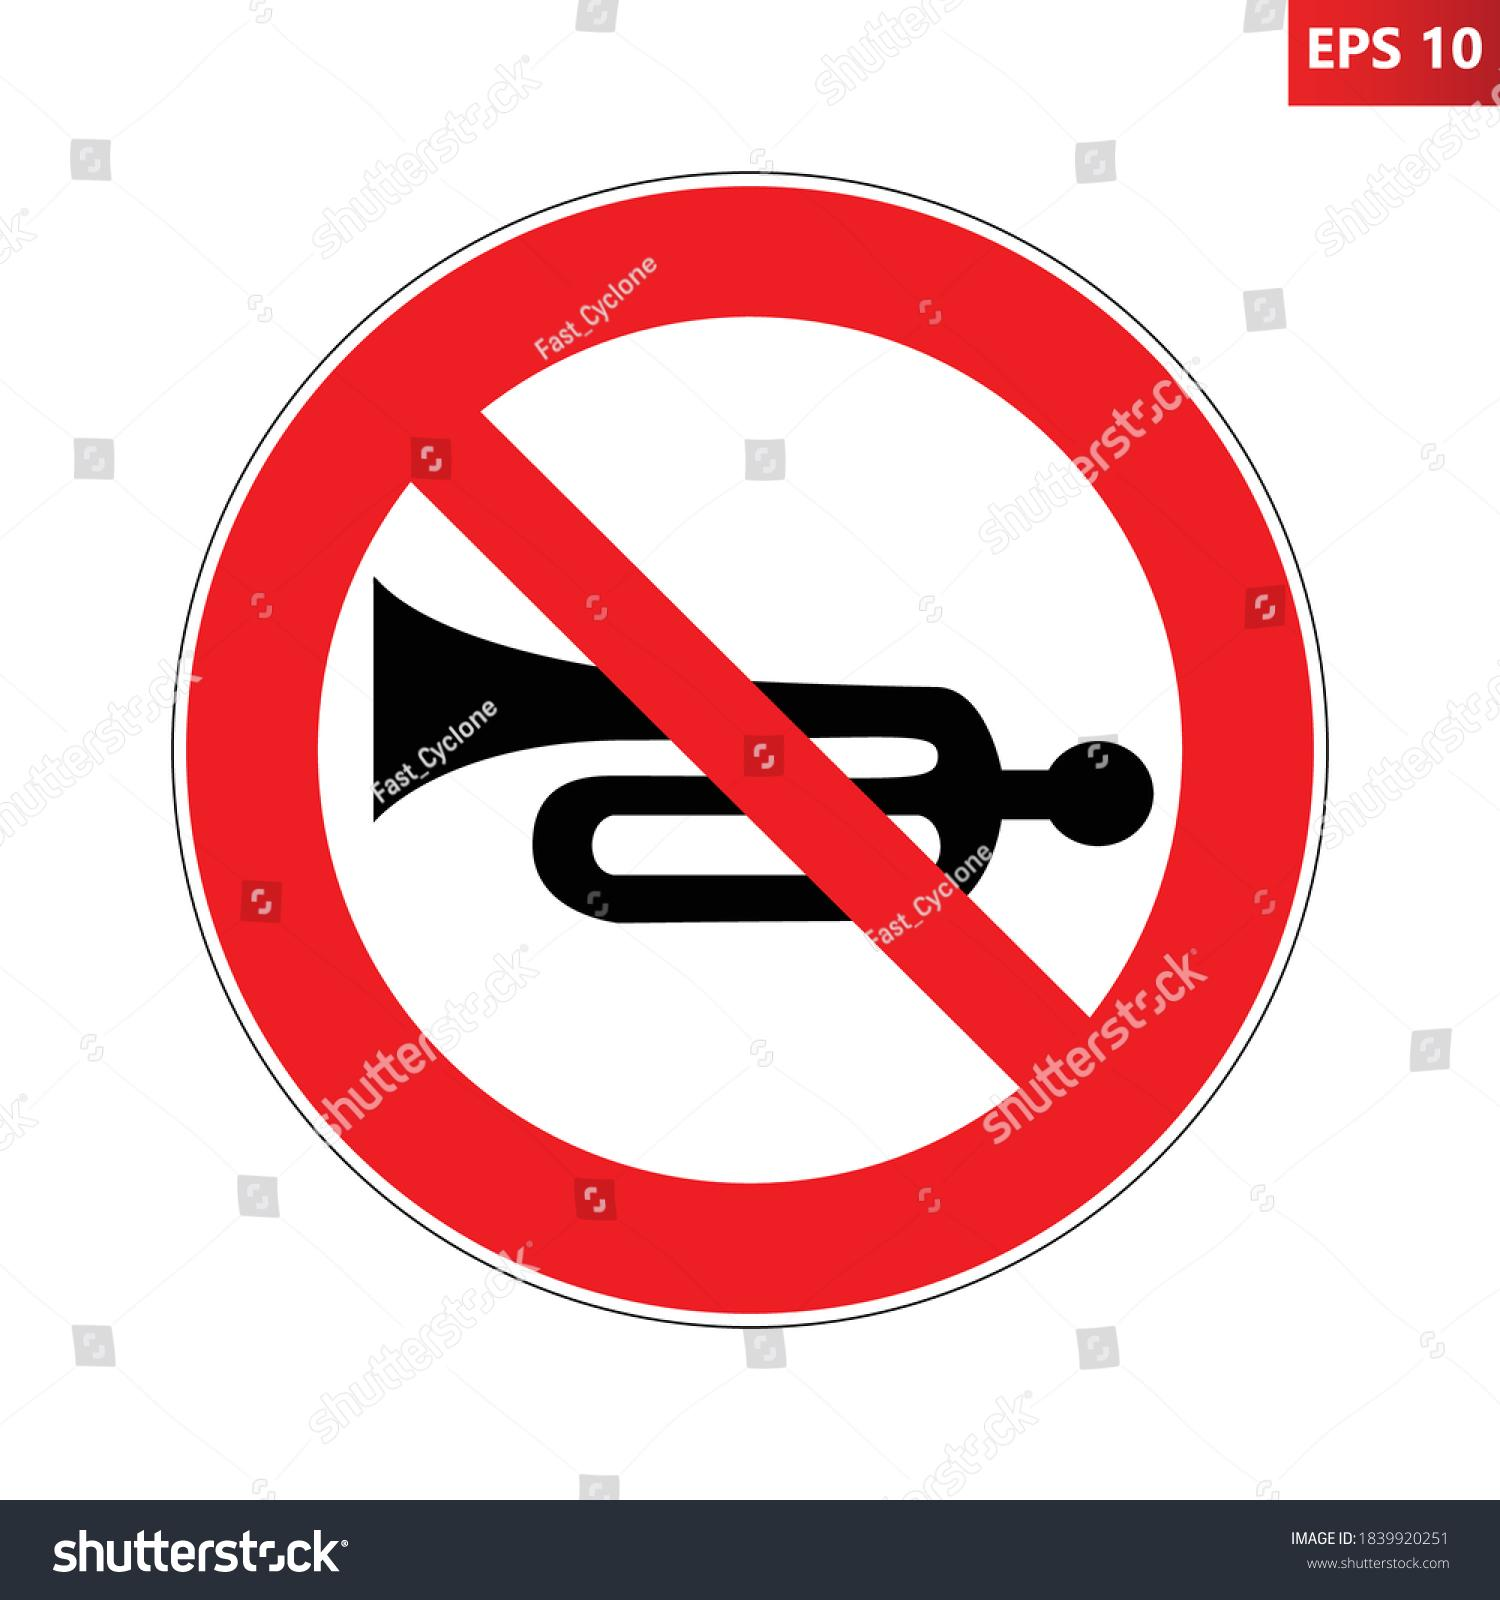Horn Prohibited: (111, 94, 1390, 1466)
